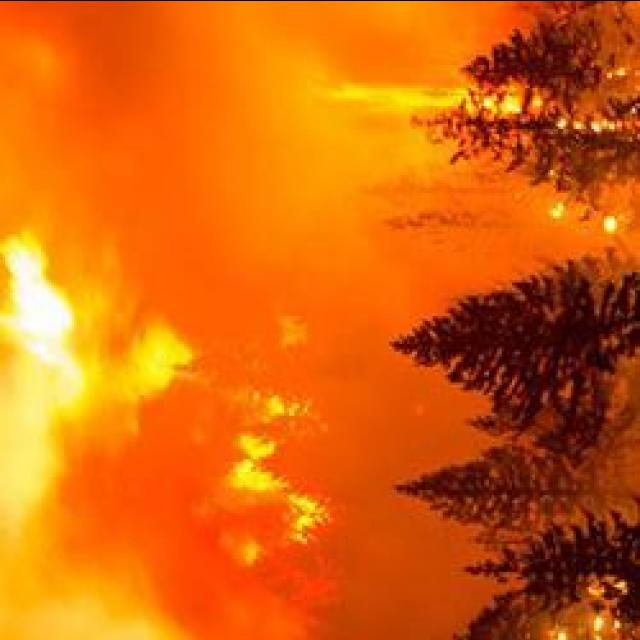fire: (226, 429, 284, 494), (599, 207, 620, 237)
smoke: (4, 0, 172, 364), (6, 384, 156, 635), (179, 0, 445, 117), (165, 368, 223, 632)
